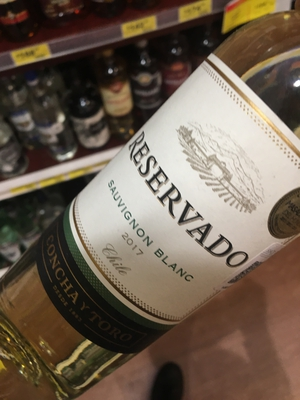reservado sauvignon blanc: (27, 62, 300, 345)
